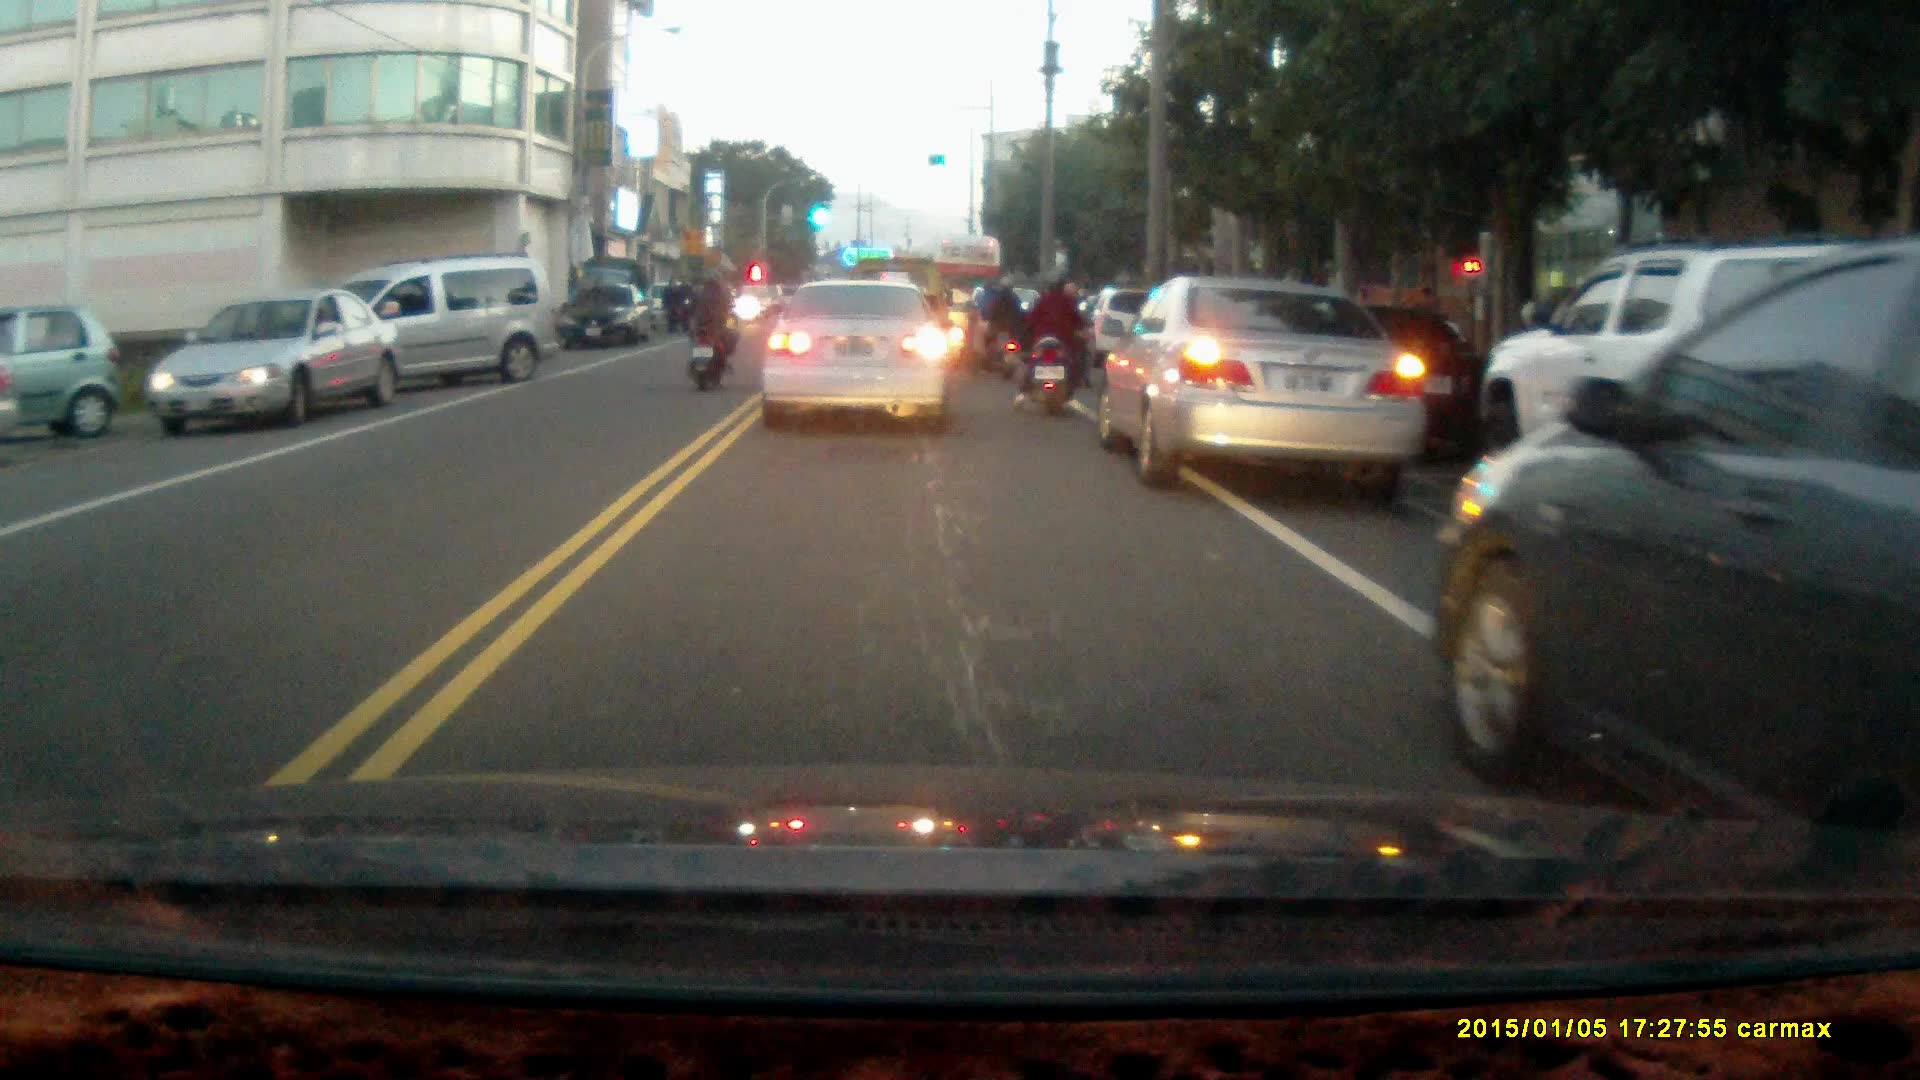pedestrian: (660, 277, 685, 338)
rider: (1014, 267, 1092, 419), (962, 271, 1023, 381), (682, 273, 736, 391)
vehicle: (1430, 246, 1920, 887), (1474, 249, 1920, 557), (1091, 272, 1428, 491), (282, 256, 560, 408), (150, 291, 400, 434), (760, 280, 951, 438), (1, 296, 123, 439), (555, 282, 653, 351)
